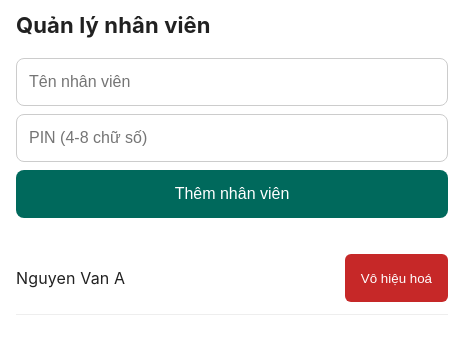
Test: StaffList › shows validation error when PIN too short
Step 1. Type "Test" into the field labelled "Tên nhân viên" → (232, 82), box [16, 58, 448, 106]
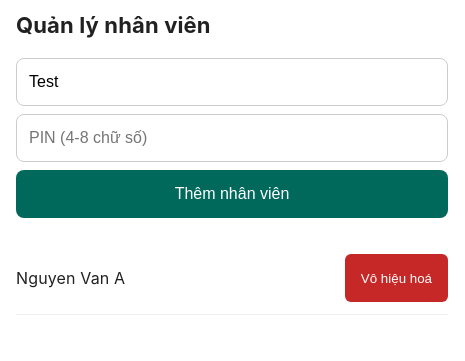
Step 2. Type "12" into the password field labelled "PIN" → (232, 138), box [16, 114, 448, 162]
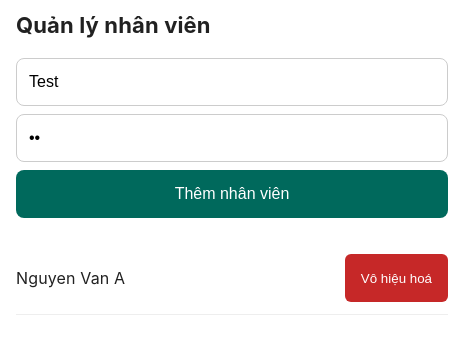
Step 3. Click the button "Thêm nhân viên" → (232, 194), box [16, 170, 448, 218]
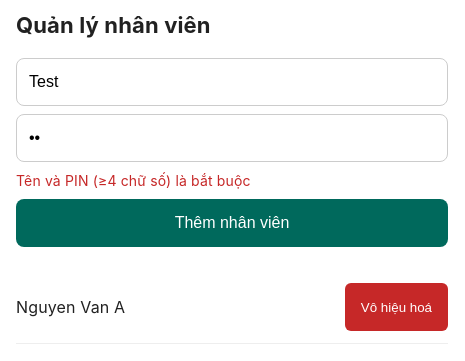
Expected: the message "Tên và PIN (≥4 chữ số) là bắt buộc" is shown, [16, 172, 251, 189]
